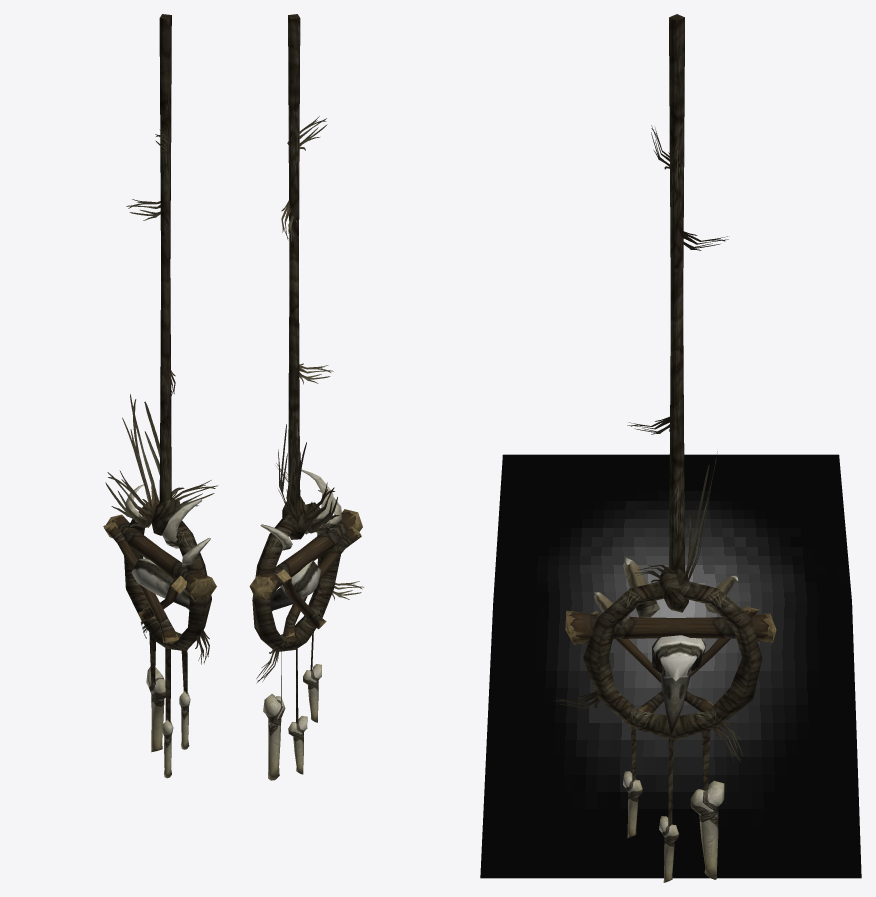
The picture shows the model from 3 angles, left to right: view 1: azimuth 30°, elevation 25°; view 2: azimuth 150°, elevation 25°; view 3: azimuth 270°, elevation 25°; orthographic projection. The views are drawn at different scales.
Bounding box in the file's own units: 0.7509 × 5.1 × 1.96.
3 materials, 3 textured.
